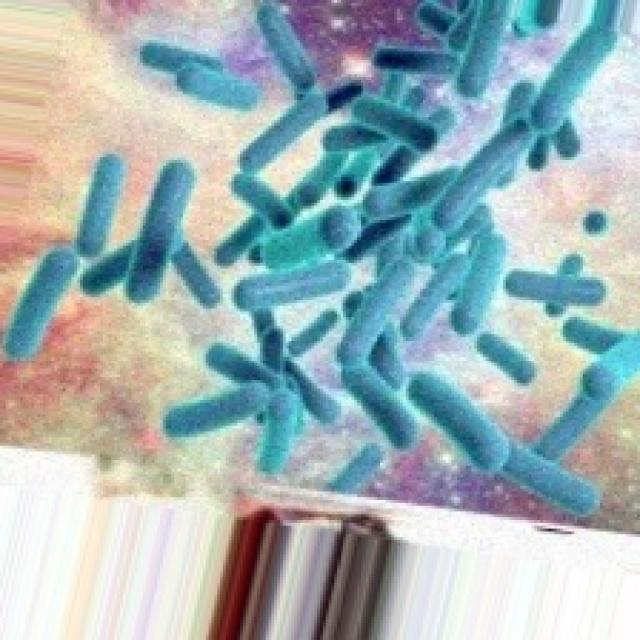Rod_bacteria: (0, 0, 637, 520)
